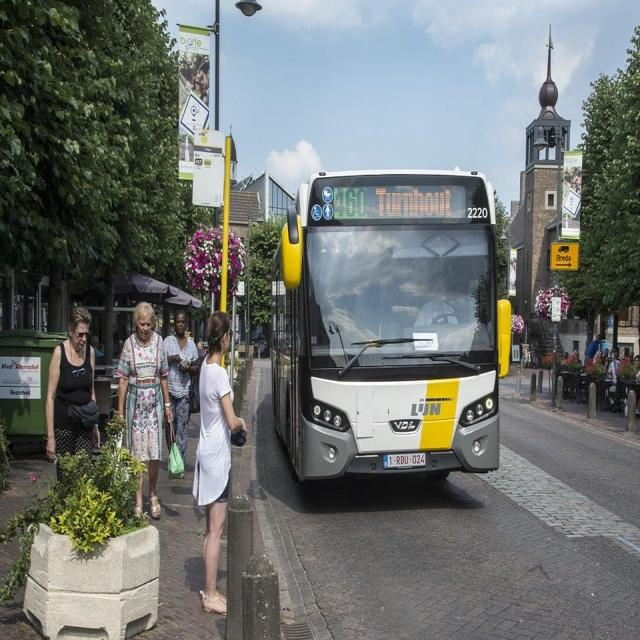bus-number: (332, 184, 368, 220)
